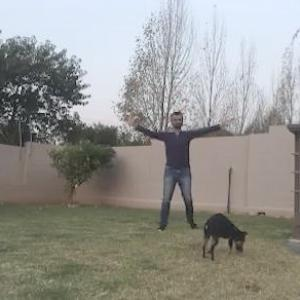takeoff: (128, 110, 242, 239)
